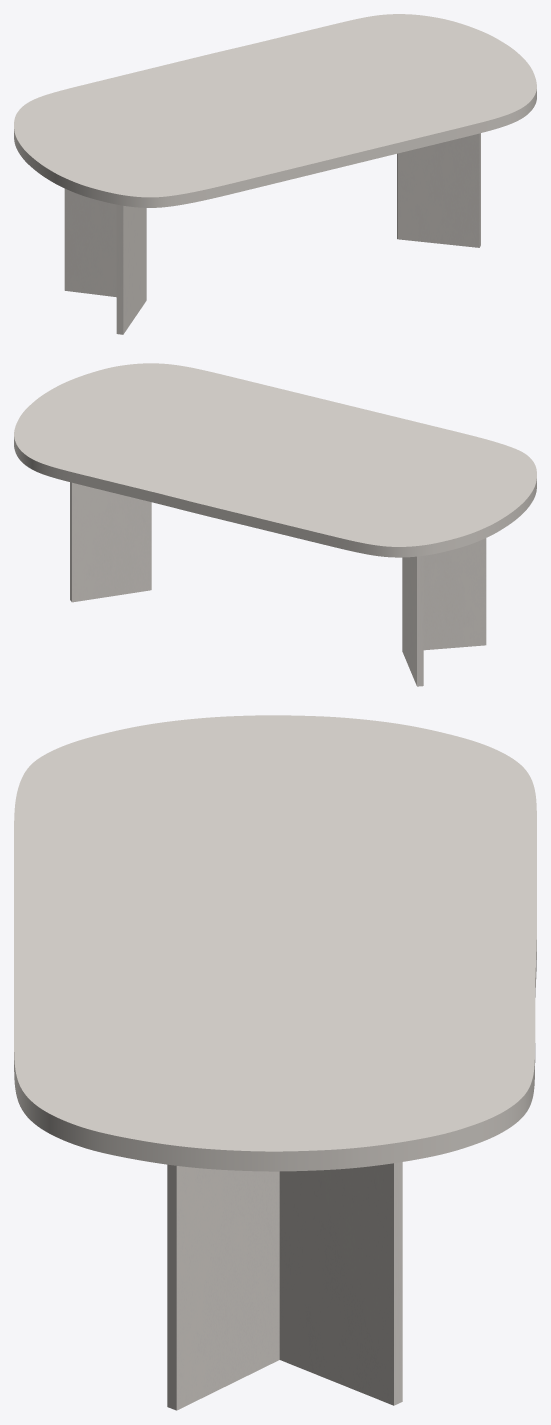
The model's file is pearlwhite_oval_standard_valleyv.glb.
3 renders of one model, top to bottom at view 1: azimuth 30°, elevation 25°; view 2: azimuth 150°, elevation 25°; view 3: azimuth 270°, elevation 25°, orthographic. The views are drawn at different scales.
Visible parts, largest first — view 1: standard_oval, valleyv; view 2: standard_oval, valleyv; view 3: standard_oval, valleyv.
Part boxes in pixels (<box>): standard_oval: <box>14,14,536,207</box>; valleyv: <box>64,133,480,334</box>; standard_oval: <box>14,363,536,557</box>; valleyv: <box>70,482,486,686</box>; standard_oval: <box>14,715,536,1171</box>; valleyv: <box>167,1162,402,1410</box>.
Size of the model in its own units: 7.5 by 2.5 by 3.8.
Materials: 1 (1 with a texture image).
